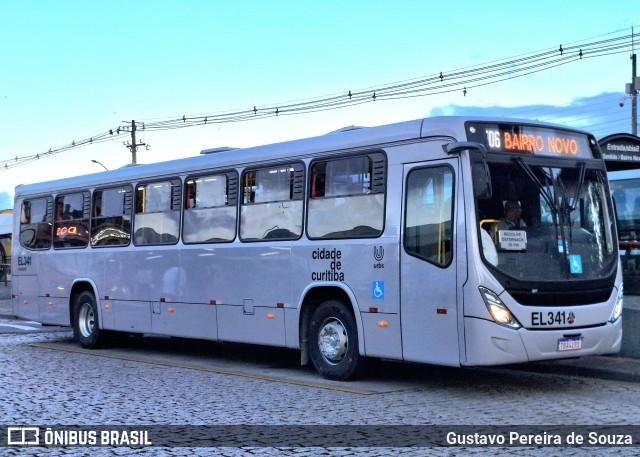BAIRRO NOVO: (500, 128, 582, 156)
